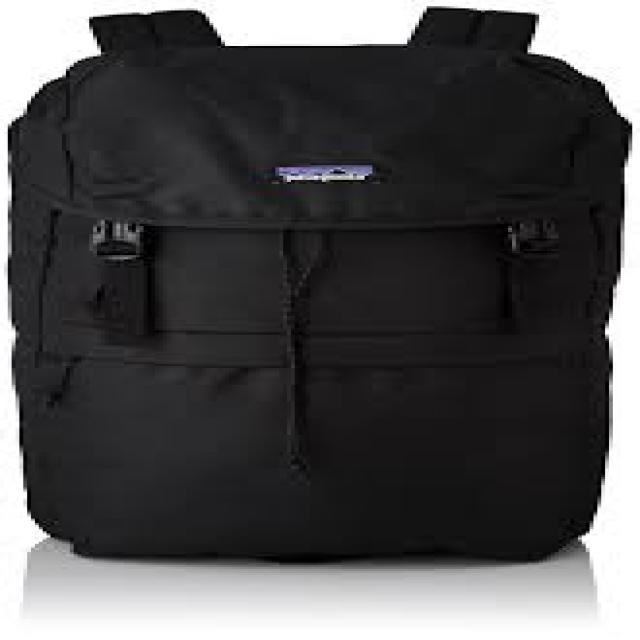backpack: (4, 4, 632, 563)
